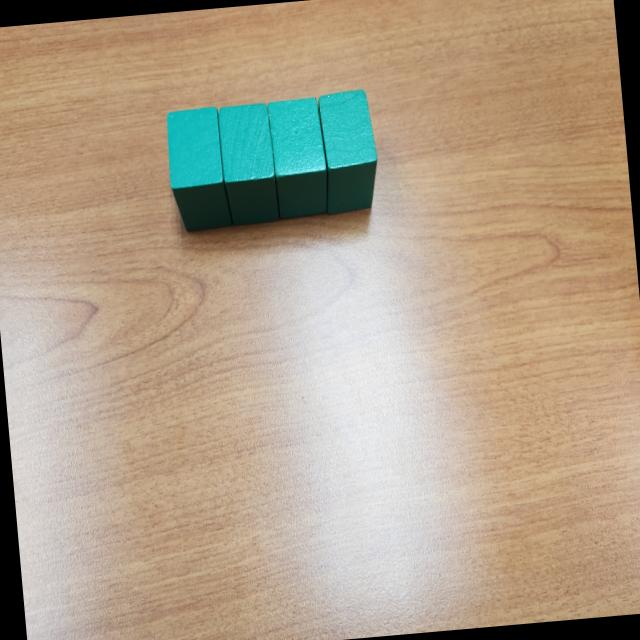green: (163, 104, 234, 233), (315, 87, 382, 215), (266, 95, 332, 222), (217, 100, 279, 226)
